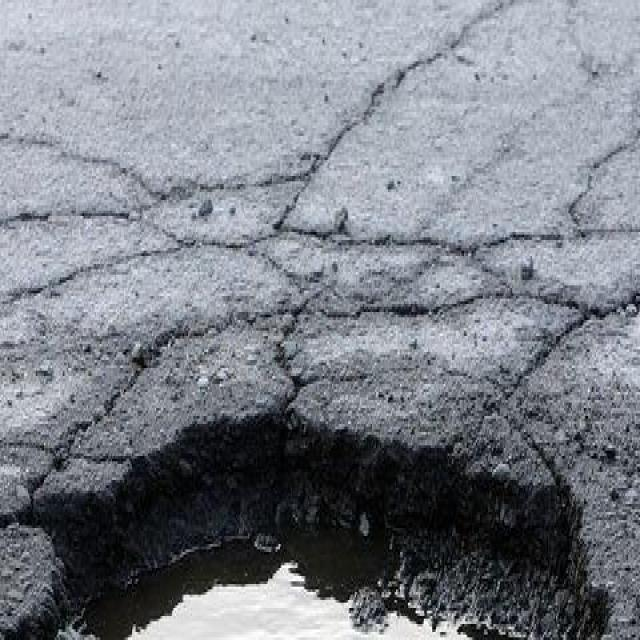lubang: (0, 402, 611, 634)
